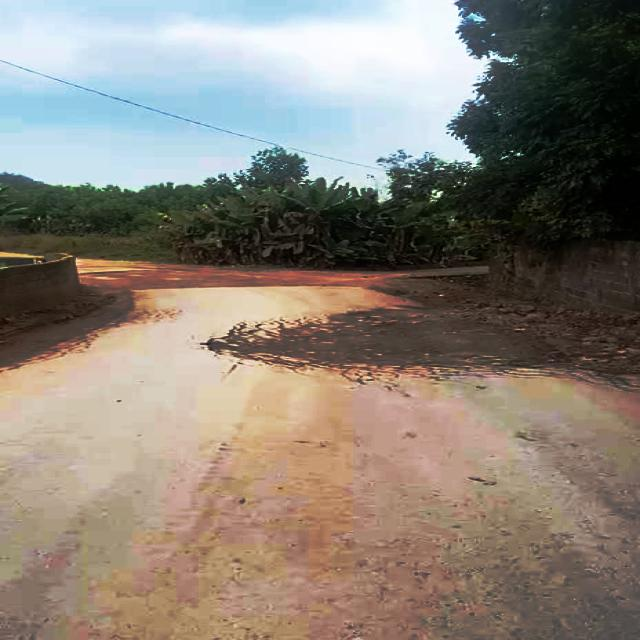pothole: (212, 305, 560, 370)
